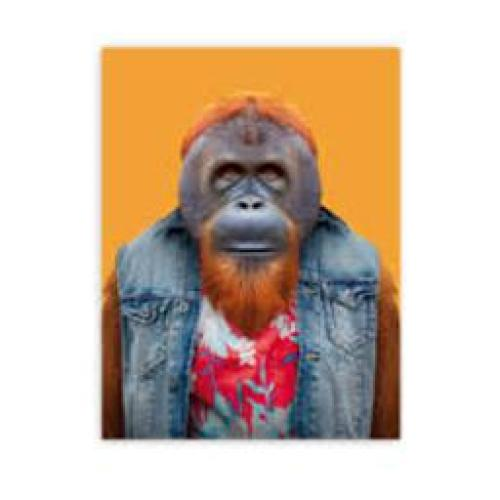orangutan-endangered: (108, 100, 401, 444)
